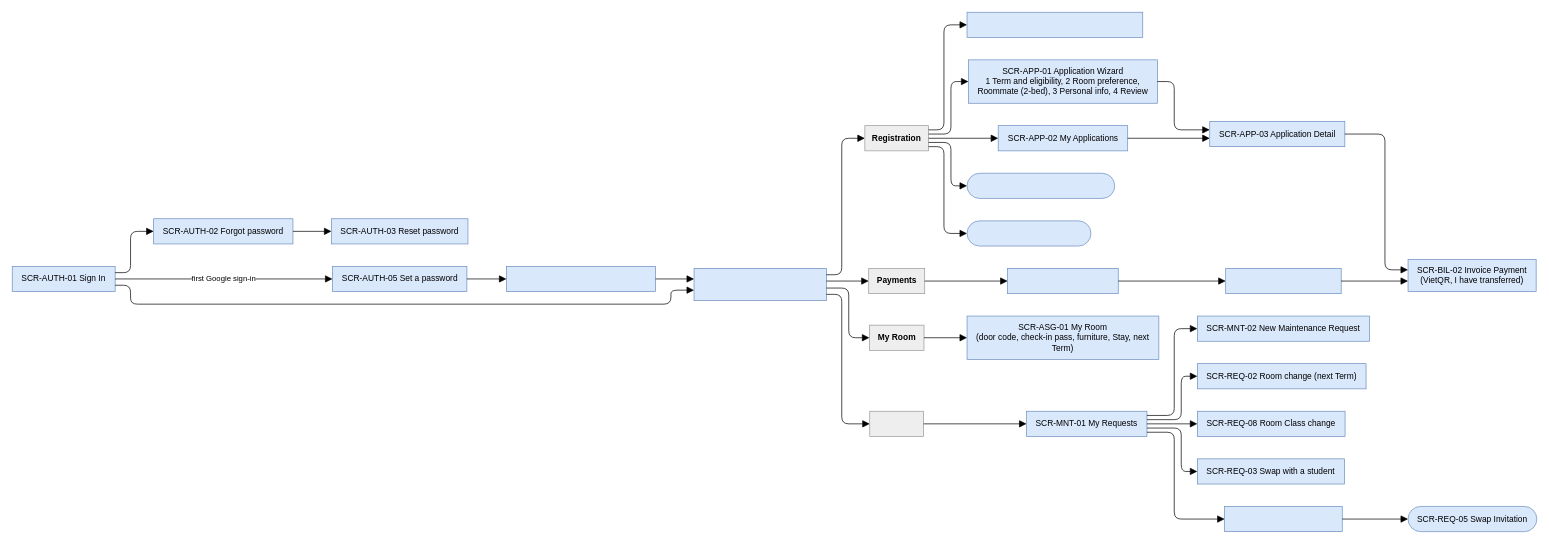
Image size: 1549x544. Some labels were removed from this diagram. The centre of each missing label's shape, as x and y in pixels:
"Requests" goes at point (896, 423).
"SCR-APP-04 Roommate Invitation" goes at point (1040, 185).
"SCR-ASG-02 Round 2 Offer" goes at point (1028, 233).
"SCR-AUTH-06 Account verification" goes at point (581, 279).
"SCR-BIL-01 My Invoices" goes at point (1062, 281).
"SCR-BIL-03 Invoice detail" goes at point (1283, 281).
"SCR-HOME-01 Student Home (timeline, board, next step)" goes at point (759, 284).
"SCR-HOME-05 Registration period details" goes at point (1054, 24).
"SCR-REQ-04 Swap Board" goes at point (1283, 519).
